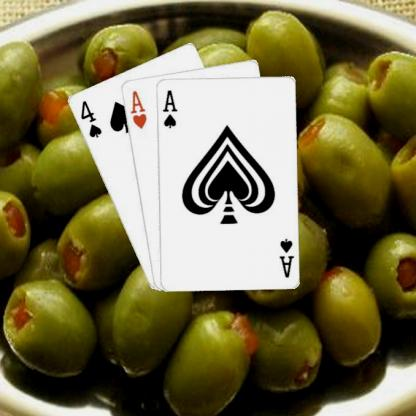4S: (78, 98, 102, 138)
AH: (127, 88, 148, 130)
AS: (277, 235, 295, 279), (160, 86, 178, 129)
